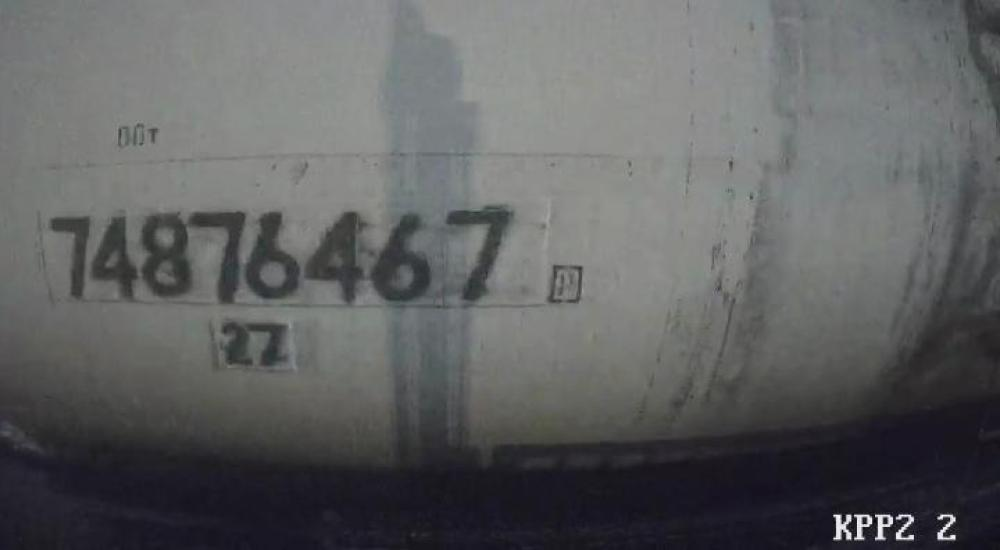Wagon-number: (41, 207, 514, 308)
